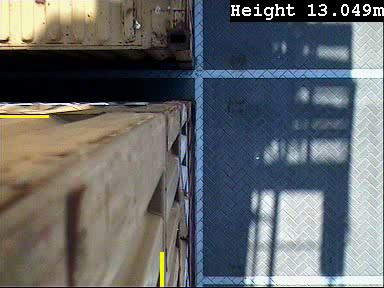groundmarker_2: (66, 11, 239, 120)
